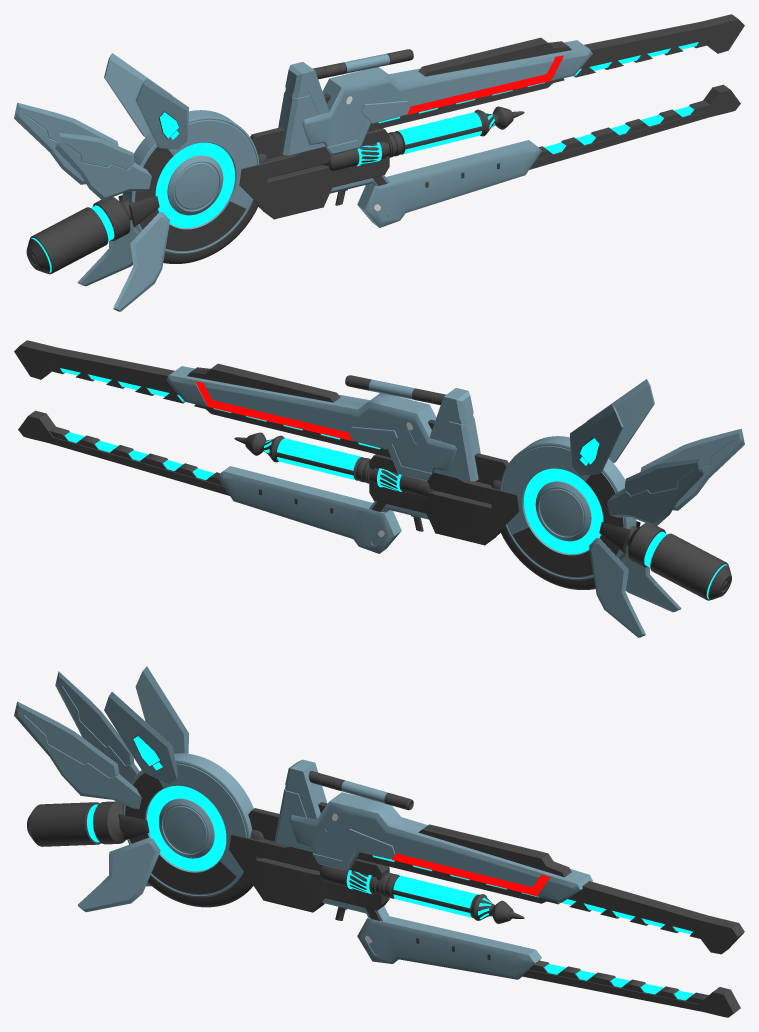
The model's file is 湮灭重炮.glb.
3 renders of one model, top to bottom at view 1: azimuth 30°, elevation 25°; view 2: azimuth 150°, elevation 25°; view 3: azimuth 330°, elevation 25°, orthographic.
Visible parts, largest first — view 1: Plane, Circle, Plane.001, Plane.026, Plane.003, Circle.002, Plane.025, Plane.002, Plane.008, Plane.014, Plane.005, Plane.010 (+6 smaller); view 2: Plane, Circle, Plane.001, Plane.026, Plane.003, Circle.002, Plane.025, Plane.002, Plane.008, Plane.014, Plane.005, Plane.010 (+6 smaller); view 3: Plane, Circle, Plane.001, Plane.026, Plane.003, Plane.008, Plane.002, Circle.002, Plane.025, Plane.014, Plane.005, Circle.001 (+5 smaller).
Part boxes in pixels (<box>): Plane: <box>302,40,592,227</box>; Circle: <box>122,110,259,254</box>; Plane.001: <box>373,14,744,185</box>; Plane.026: <box>14,102,151,200</box>; Plane.003: <box>239,128,389,219</box>; Circle.002: <box>26,197,131,274</box>; Plane.025: <box>77,212,169,311</box>; Plane.002: <box>323,106,524,171</box>; Plane.008: <box>104,53,188,149</box>; Plane.014: <box>367,40,709,159</box>; Plane.005: <box>278,62,329,155</box>; Plane.010: <box>406,55,563,115</box>; Plane: <box>166,366,456,553</box>; Circle: <box>499,436,636,580</box>; Plane.001: <box>14,340,385,511</box>; Plane.026: <box>607,428,744,526</box>; Plane.003: <box>369,454,519,545</box>; Circle.002: <box>627,523,731,600</box>; Plane.025: <box>589,538,681,637</box>; Plane.002: <box>234,432,435,497</box>; Plane.008: <box>570,379,654,475</box>; Plane.014: <box>49,366,391,485</box>; Plane.005: <box>429,388,480,481</box>; Plane.010: <box>195,381,352,441</box>; Plane: <box>289,792,592,979</box>; Circle: <box>122,753,253,897</box>; Plane.001: <box>365,824,744,1017</box>; Plane.026: <box>14,671,141,809</box>; Plane.003: <box>229,834,389,912</box>; Plane.008: <box>104,666,188,783</box>; Plane.002: <box>319,865,524,923</box>; Circle.002: <box>27,801,125,846</box>; Plane.025: <box>78,837,160,912</box>; Plane.014: <box>356,852,708,1003</box>; Plane.005: <box>274,759,326,852</box>; Circle.001: <box>147,829,263,907</box>.
Size of the model in its own units: 27.13 by 8.28 by 2.8.
